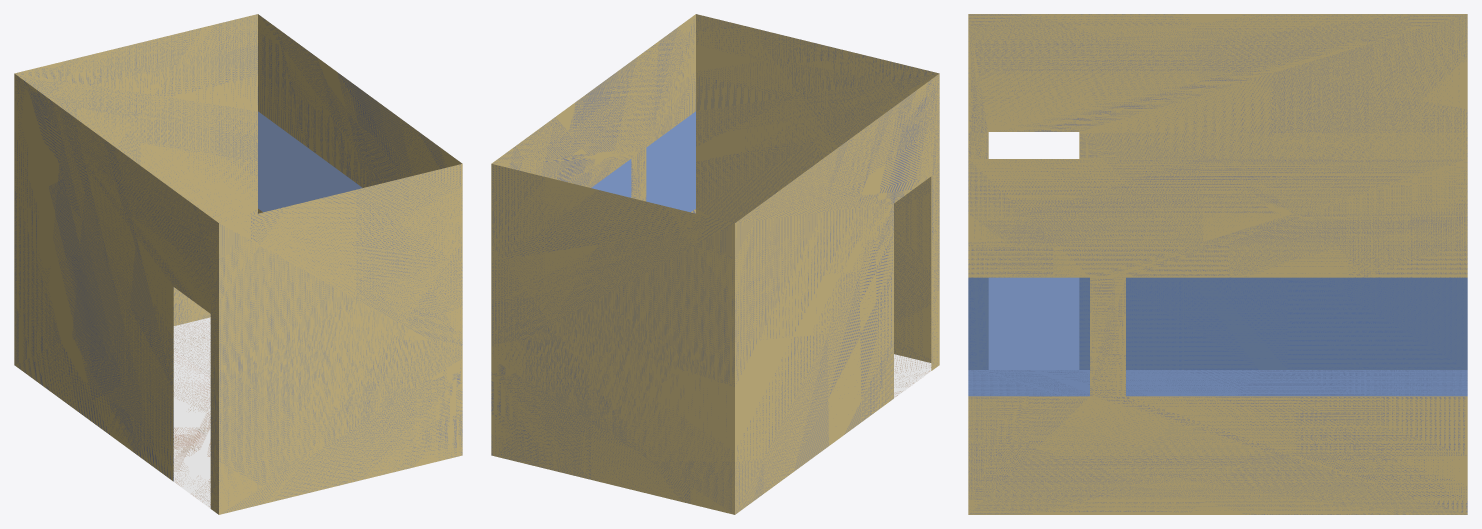
The model's file is LAB010.obj.
3 views of the same model, side by side, from view 1: azimuth 30°, elevation 25°; view 2: azimuth 150°, elevation 25°; view 3: azimuth 270°, elevation 25° (orthographic). The views are drawn at different scales.
Parts seen in each view (by area): view 1: Mesh1 LAB010 Model; view 2: Mesh1 LAB010 Model; view 3: Mesh1 LAB010 Model.
Part boxes in pixels (bbox=[...]): Mesh1 LAB010 Model: bbox=[14, 14, 462, 514]; Mesh1 LAB010 Model: bbox=[491, 14, 939, 514]; Mesh1 LAB010 Model: bbox=[968, 14, 1467, 514].
Bounding box in the file's own units: 2.62 × 3 × 3.81.
